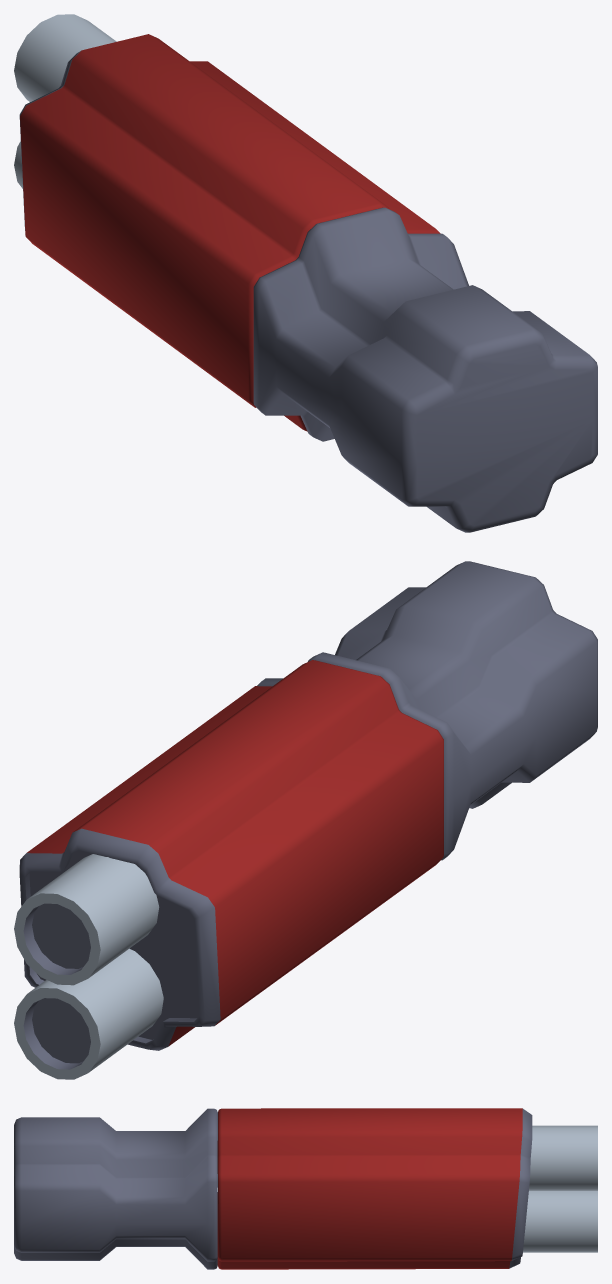
The model's file is Dulo2.fbx.
The picture shows the model from 3 angles, top to bottom: view 1: azimuth 30°, elevation 25°; view 2: azimuth 150°, elevation 25°; view 3: azimuth 270°, elevation 25°; orthographic projection. The views are drawn at different scales.
Parts seen in each view (by area): view 1: Dulo2; view 2: Dulo2; view 3: Dulo2.
Boxes of the visible parts, <box> form: Dulo2: <box>14,14,597,532</box>; Dulo2: <box>14,561,597,1079</box>; Dulo2: <box>14,1108,597,1269</box>.
Bounding box in the file's own units: 75.07 × 298 × 78.95.
